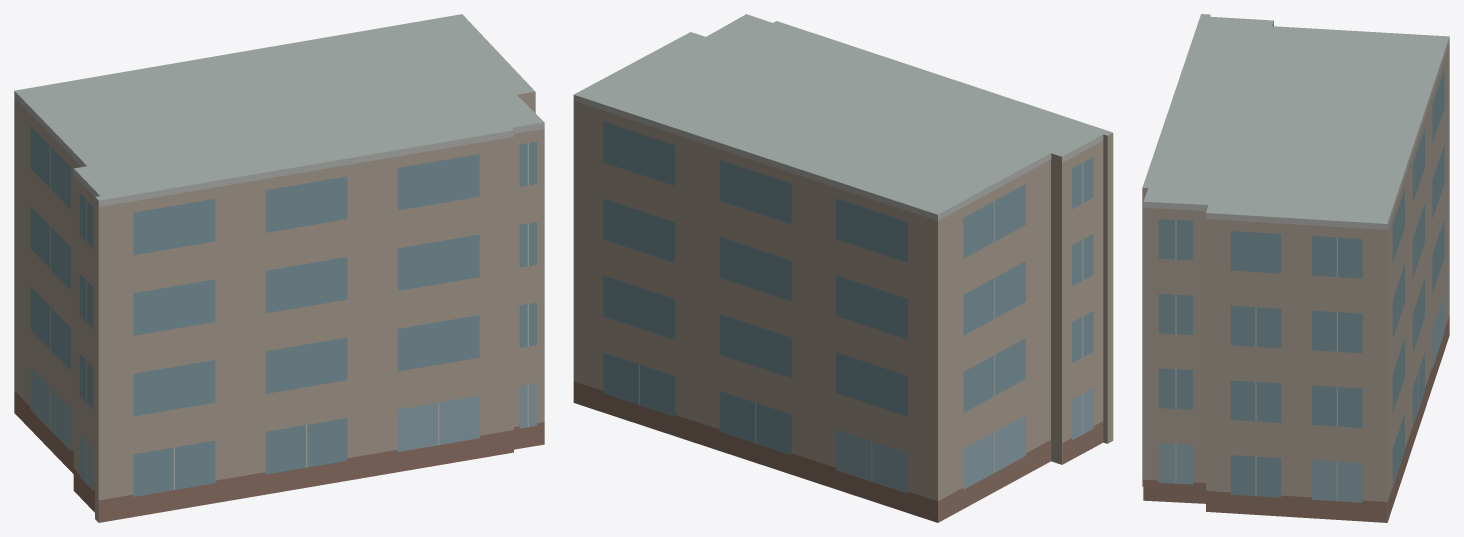
Rendered from survey-upis-32806227.glb.
The picture shows the model from 3 angles, left to right: view 1: azimuth 30°, elevation 25°; view 2: azimuth 150°, elevation 25°; view 3: azimuth 270°, elevation 25°; orthographic projection. The views are drawn at different scales.
Visible parts, largest first — view 1: survey-upis-32806227.tmp; view 2: survey-upis-32806227.tmp; view 3: survey-upis-32806227.tmp.
Boxes of the visible parts, box(x1,y1,x2,y2) form: survey-upis-32806227.tmp: box(14, 14, 544, 522); survey-upis-32806227.tmp: box(573, 14, 1113, 522); survey-upis-32806227.tmp: box(1142, 14, 1449, 522).
Size of the model in its own units: 18.24 by 12.1 by 11.28.
